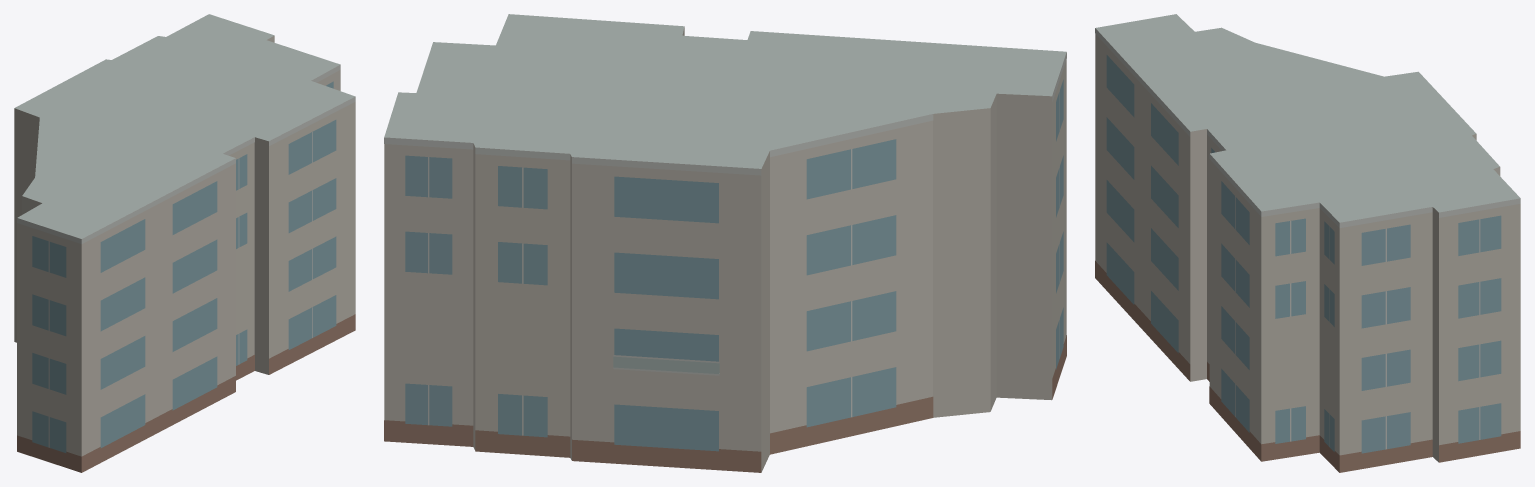
Rendered from survey-upis-32499690.glb.
3 views of the same model, side by side, from view 1: azimuth 30°, elevation 25°; view 2: azimuth 150°, elevation 25°; view 3: azimuth 270°, elevation 25° (orthographic). The views are drawn at different scales.
Visible parts, largest first — view 1: survey-upis-32499690.tmp; view 2: survey-upis-32499690.tmp; view 3: survey-upis-32499690.tmp.
Part boxes in pixels (bbox=[...]): survey-upis-32499690.tmp: bbox=[14, 14, 355, 472]; survey-upis-32499690.tmp: bbox=[384, 14, 1066, 472]; survey-upis-32499690.tmp: bbox=[1095, 14, 1520, 472].
Size of the model in its own units: 20.06 by 11.2 by 17.28.
